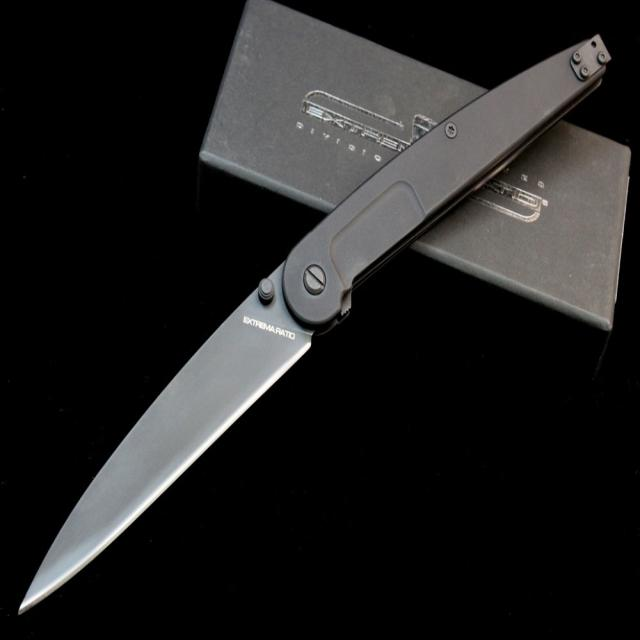knife: (17, 28, 610, 619)
